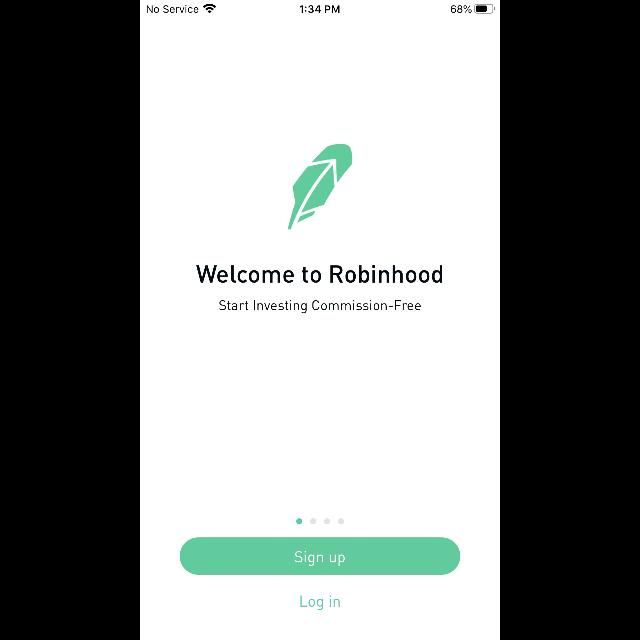image: (288, 144, 352, 230)
pageindicator: (296, 518, 344, 524)
text: (196, 266, 442, 282), (220, 300, 420, 314), (300, 596, 340, 610)
textbutton: (180, 538, 460, 574)
uppertaskbar: (140, 0, 500, 14)
